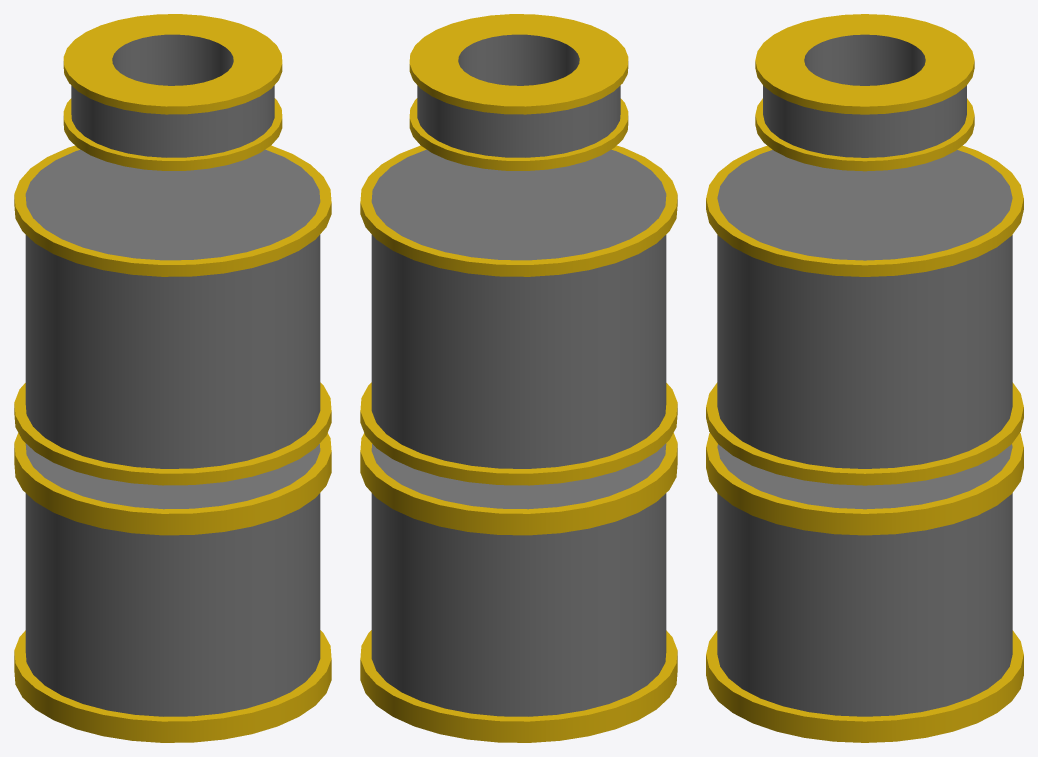
The model's file is MortarDefender health 2.fbx.
3 views of the same model, side by side, from view 1: azimuth 30°, elevation 25°; view 2: azimuth 150°, elevation 25°; view 3: azimuth 270°, elevation 25° (orthographic).
Visible parts, largest first — view 1: MortarDefender 2nd health upgrade; view 2: MortarDefender 2nd health upgrade; view 3: MortarDefender 2nd health upgrade.
Part boxes in pixels (bbox=[...]): MortarDefender 2nd health upgrade: bbox=[14, 14, 331, 742]; MortarDefender 2nd health upgrade: bbox=[360, 14, 677, 742]; MortarDefender 2nd health upgrade: bbox=[706, 14, 1023, 742].
Size of the model in its own units: 54.3 by 116 by 54.3.
